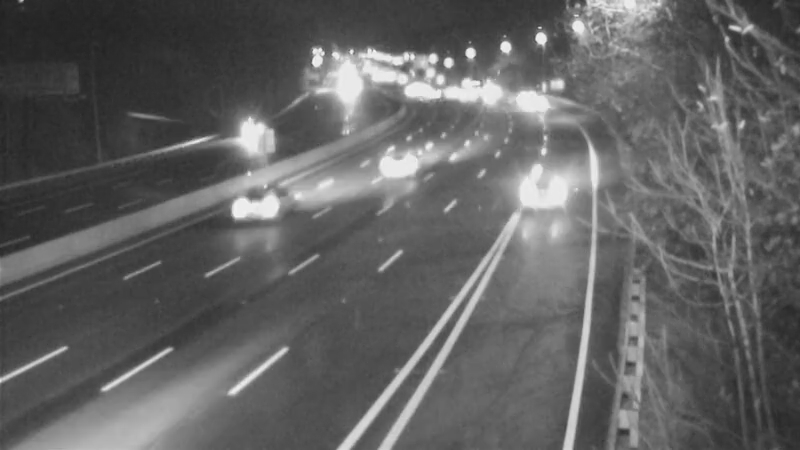vehicle: (360, 121, 440, 201), (509, 148, 589, 228), (219, 162, 299, 242), (445, 61, 495, 111), (383, 64, 433, 114), (465, 64, 515, 114), (435, 69, 485, 119), (500, 69, 550, 119), (403, 71, 453, 121), (512, 78, 562, 128), (224, 109, 274, 159)
